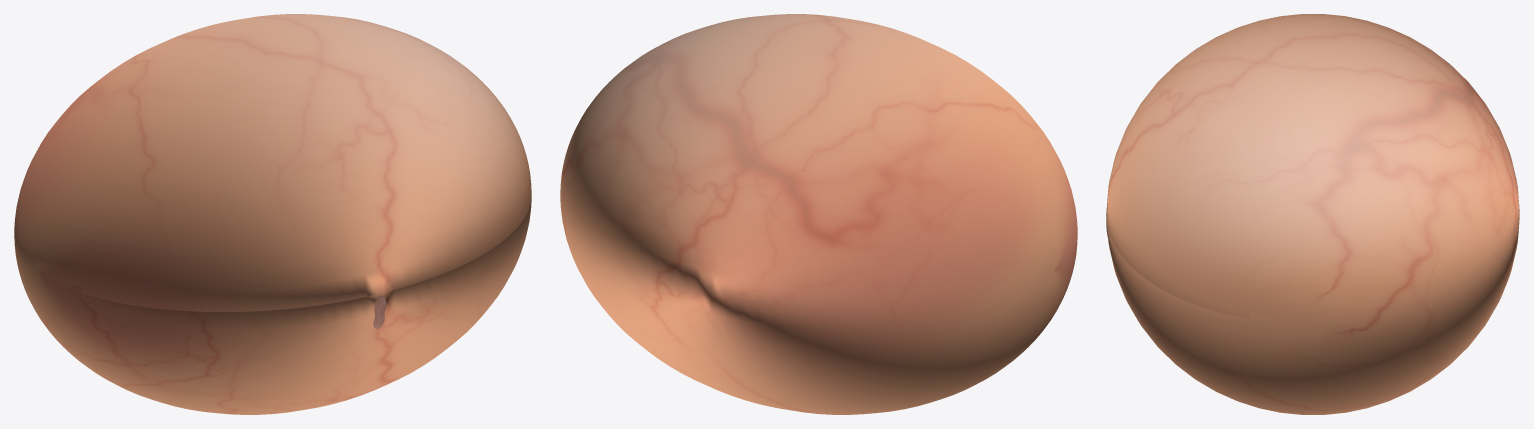
The picture shows the model from 3 angles, left to right: view 1: azimuth 30°, elevation 25°; view 2: azimuth 150°, elevation 25°; view 3: azimuth 270°, elevation 25°; orthographic projection. The views are drawn at different scales.
Parts seen in each view (by area): view 1: default; view 2: default; view 3: default.
Boxes of the visible parts, <box> form: default: <box>14,14,531,414</box>; default: <box>560,14,1077,414</box>; default: <box>1106,14,1519,414</box>.
Size of the model in its own units: 0.0891 by 0.0635 by 0.071.
5 materials, 5 textured.
